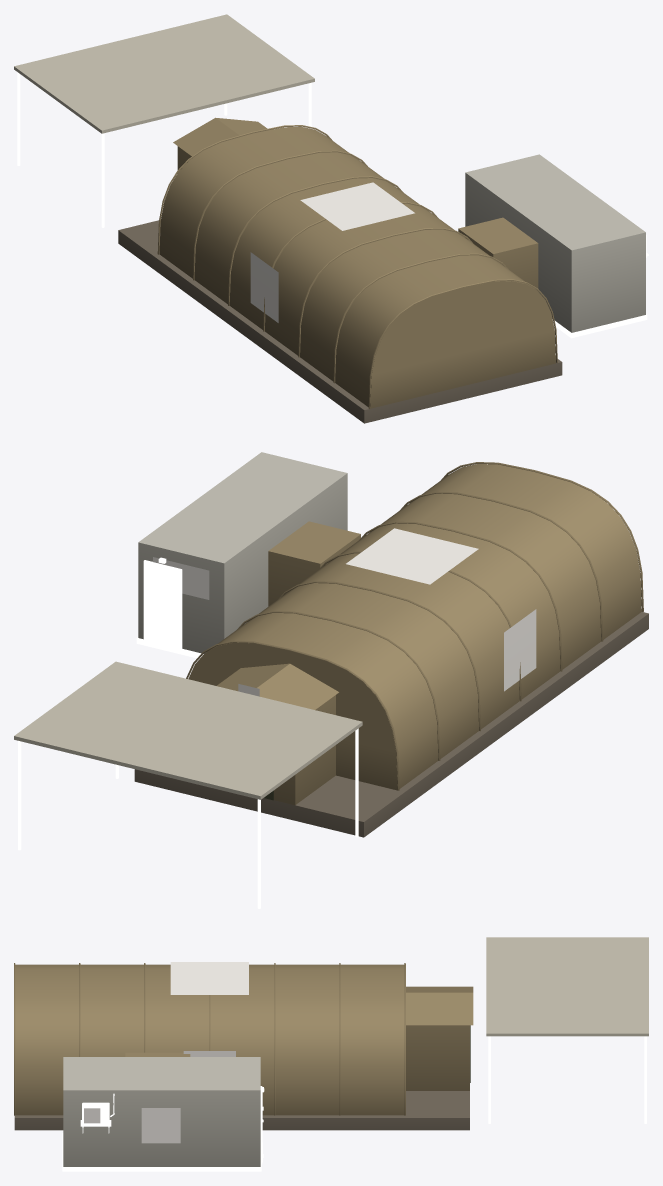
File: medical_station.glb
The picture shows the model from 3 angles, top to bottom: view 1: azimuth 30°, elevation 25°; view 2: azimuth 150°, elevation 25°; view 3: azimuth 270°, elevation 25°; orthographic projection. The views are drawn at different scales.
Parts seen in each view (by area): view 1: medical_station_LOD0; view 2: medical_station_LOD0; view 3: medical_station_LOD0.
Part boxes in pixels (bbox=[...]): medical_station_LOD0: bbox=[14, 14, 648, 423]; medical_station_LOD0: bbox=[14, 452, 648, 908]; medical_station_LOD0: bbox=[14, 937, 648, 1171].
Size of what is drawn, in the model's own units: 10.79 by 3.63 by 19.52.
